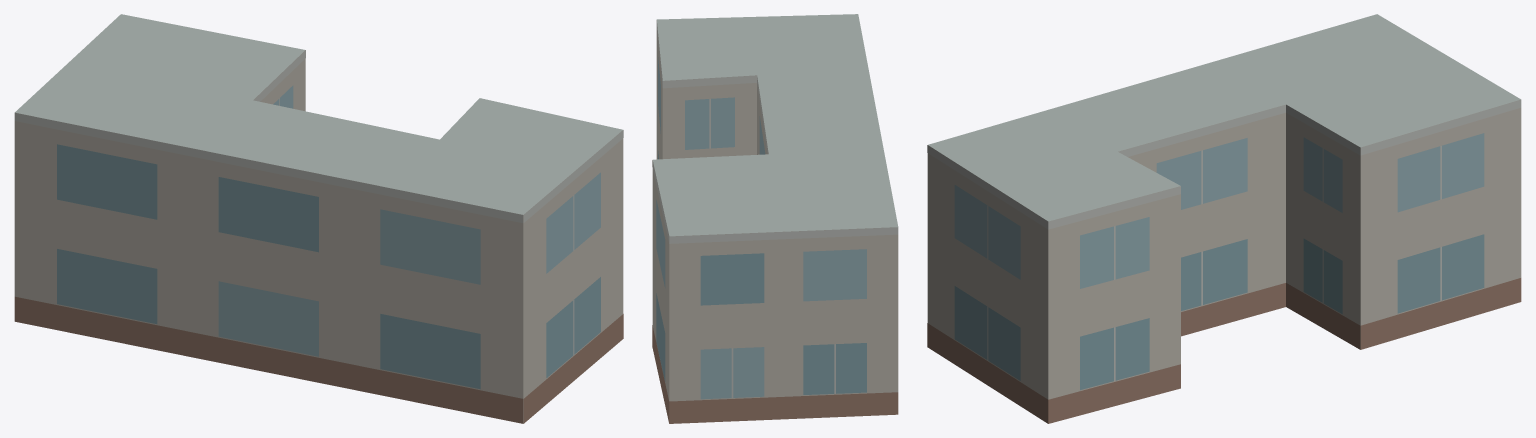
Rendered from survey-upis-32763301.glb.
3 views of the same model, side by side, from view 1: azimuth 30°, elevation 25°; view 2: azimuth 150°, elevation 25°; view 3: azimuth 270°, elevation 25° (orthographic). The views are drawn at different scales.
Visible parts, largest first — view 1: survey-upis-32763301.tmp; view 2: survey-upis-32763301.tmp; view 3: survey-upis-32763301.tmp.
Part boxes in pixels (x1,y1,x2,y2): survey-upis-32763301.tmp: (14, 14, 623, 423); survey-upis-32763301.tmp: (652, 14, 898, 423); survey-upis-32763301.tmp: (927, 14, 1521, 423).
Size of the model in its own units: 13.42 by 6.1 by 16.23.
